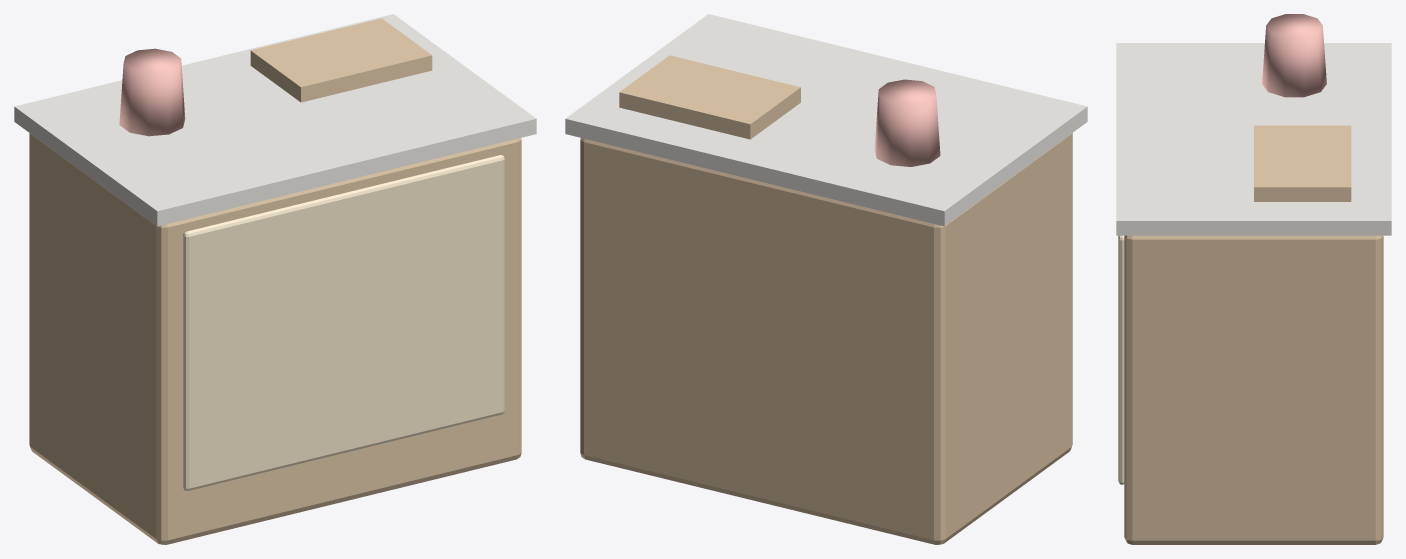
The model's file is balcao.glb.
3 views of the same model, side by side, from view 1: azimuth 30°, elevation 25°; view 2: azimuth 150°, elevation 25°; view 3: azimuth 270°, elevation 25° (orthographic). The views are drawn at different scales.
Parts seen in each view (by area): view 1: balcao; view 2: balcao; view 3: balcao.
Part boxes in pixels (bbox=[...]): balcao: bbox=[14, 14, 536, 544]; balcao: bbox=[565, 14, 1087, 544]; balcao: bbox=[1116, 14, 1391, 544].
Size of the model in its own units: 1.04 by 1.06 by 0.68.
